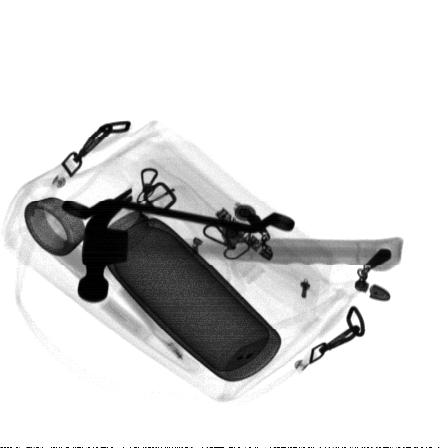Hammer: (77, 184, 402, 303)
Wrench: (63, 198, 294, 233)
